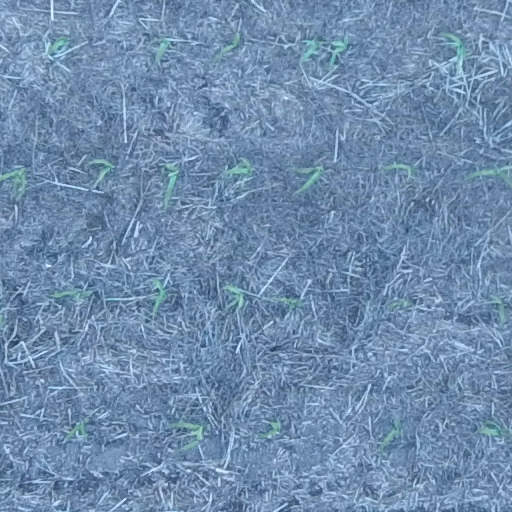planta: (168, 419, 206, 450), (441, 31, 468, 62), (149, 276, 169, 315), (379, 419, 401, 452), (296, 167, 325, 192), (162, 163, 180, 203), (213, 35, 241, 60), (327, 37, 349, 68), (90, 158, 113, 185), (222, 157, 253, 177), (222, 283, 244, 311), (477, 419, 509, 437), (48, 287, 92, 300), (301, 36, 324, 60), (65, 418, 88, 439), (490, 295, 507, 323), (154, 36, 173, 60), (272, 295, 303, 309), (259, 419, 281, 438), (384, 162, 416, 175), (387, 297, 411, 308)
